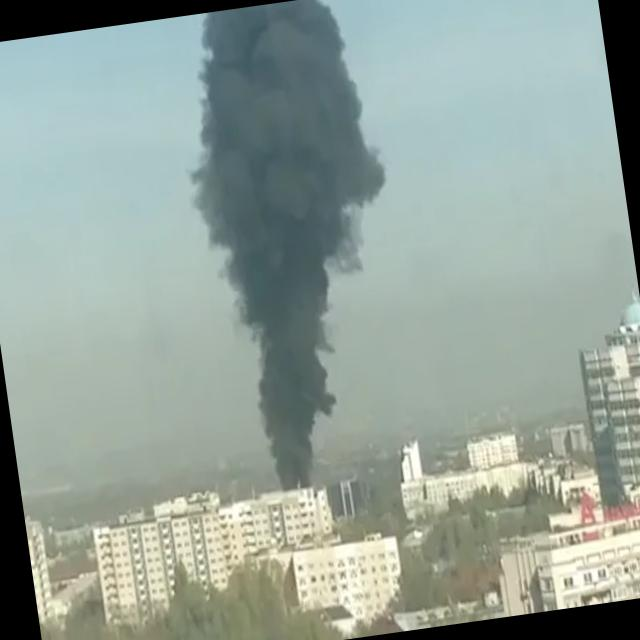Smoke: (169, 0, 428, 490)
